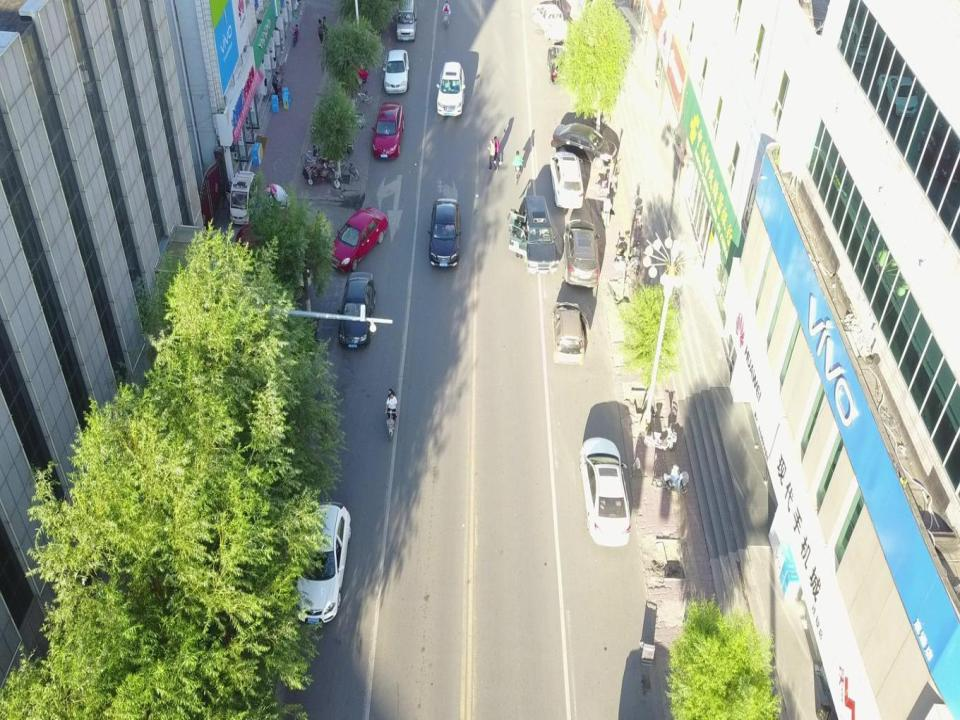car: (296, 495, 349, 629), (580, 437, 632, 544), (327, 206, 387, 275), (510, 195, 558, 275), (551, 122, 617, 168), (338, 272, 376, 348), (563, 220, 600, 288), (428, 197, 462, 266), (552, 302, 587, 365), (550, 152, 584, 208), (372, 101, 404, 159), (225, 170, 258, 224), (437, 61, 465, 117), (384, 50, 410, 93), (546, 45, 571, 86)
truck: (532, 4, 569, 43)
van: (394, 0, 417, 41)
